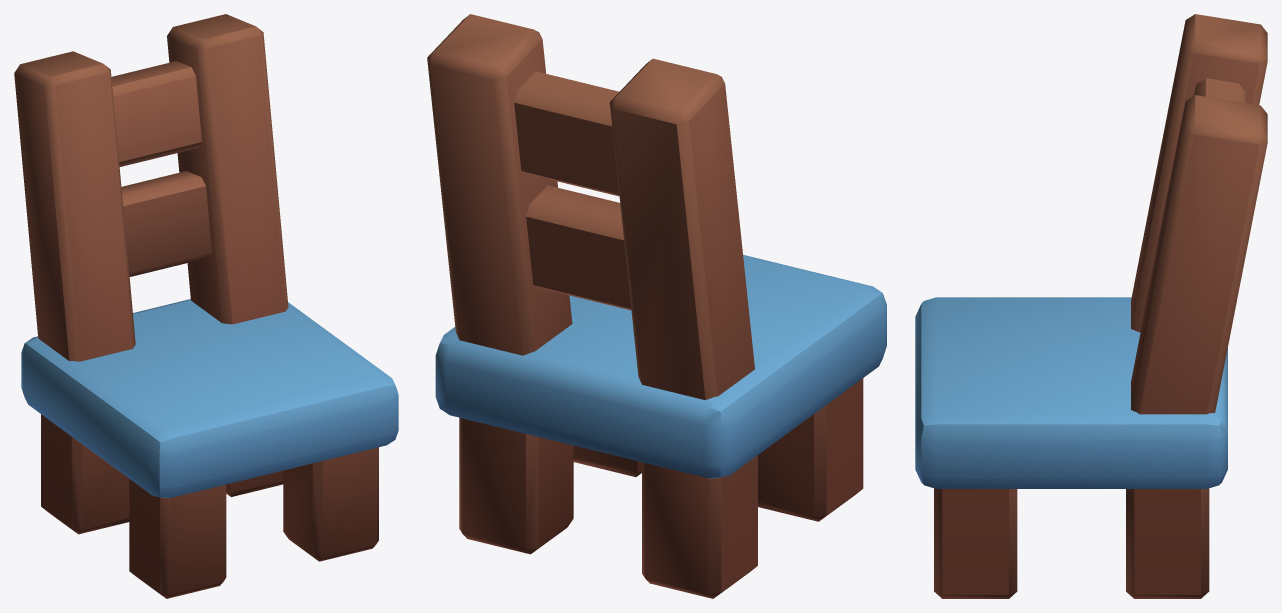
File: chair-a.glb
3 views of the same model, side by side, from view 1: azimuth 30°, elevation 25°; view 2: azimuth 150°, elevation 25°; view 3: azimuth 270°, elevation 25° (orthographic). The views are drawn at different scales.
Parts seen in each view (by area): view 1: chair_A; view 2: chair_A; view 3: chair_A.
Boxes of the visible parts, x1,y1,x2,y2 form: chair_A: [14, 14, 398, 598]; chair_A: [427, 14, 886, 598]; chair_A: [915, 14, 1267, 598].
Size of the model in its own units: 0.75 by 1.26 by 0.8451.
